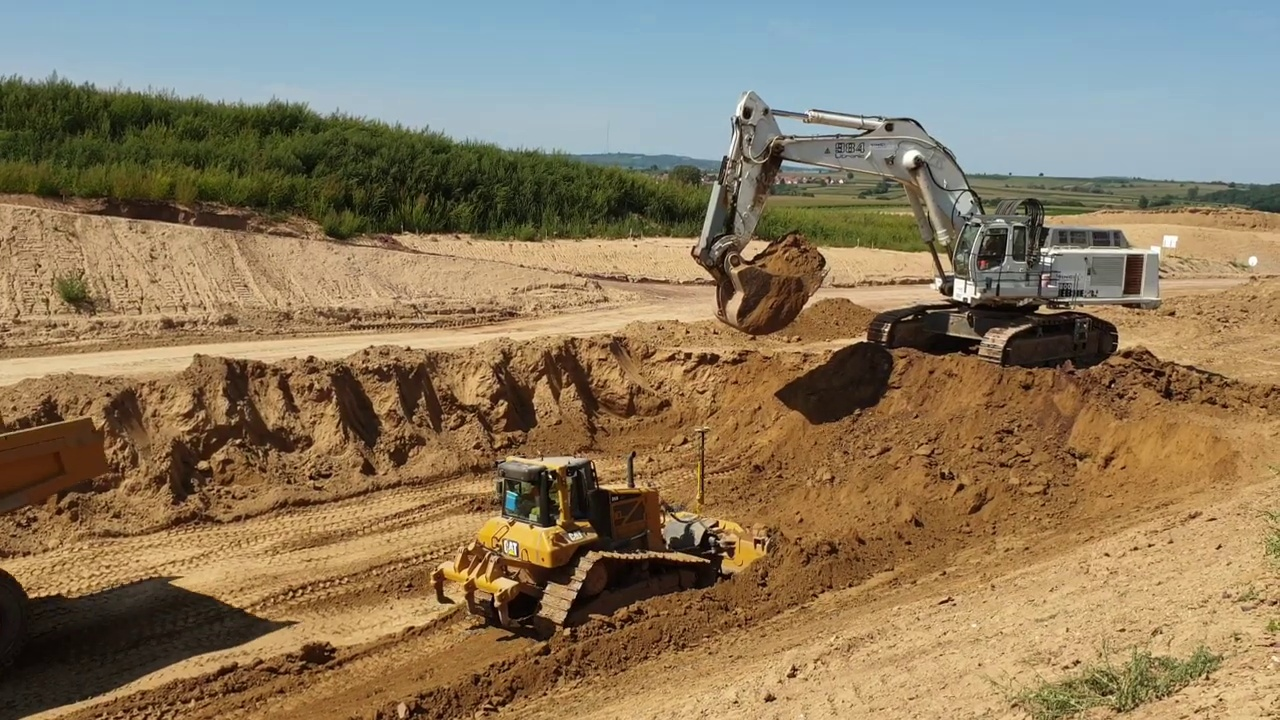bulldozer: (430, 424, 781, 641)
excavator: (690, 89, 1170, 382)
truck: (1, 405, 106, 530)
